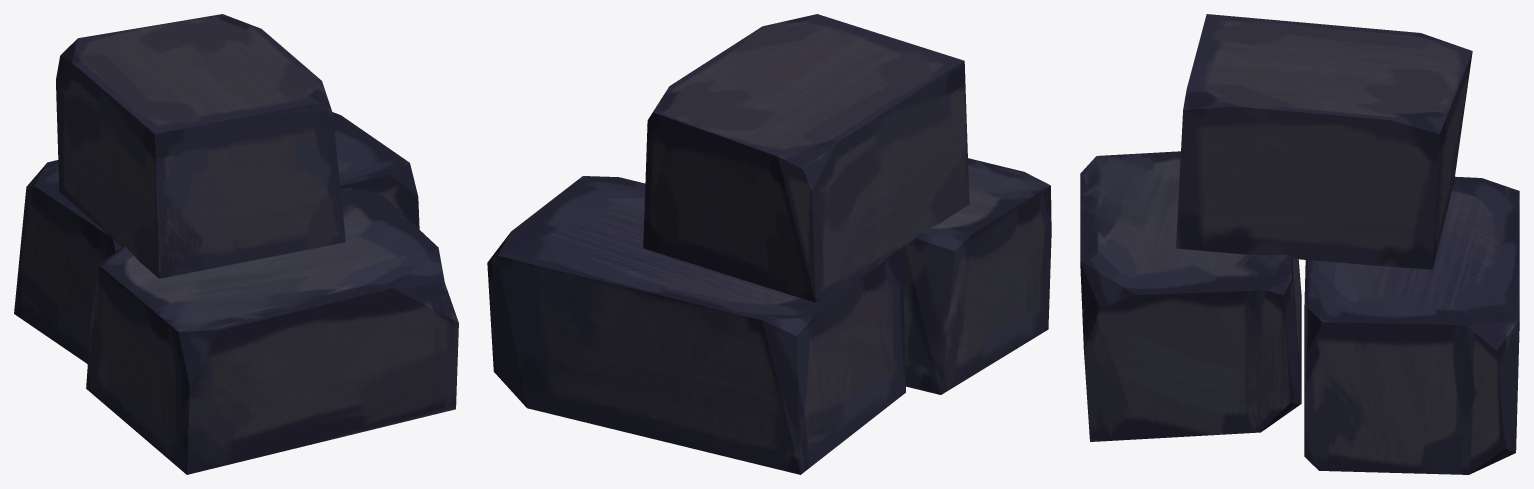
File: Debris05.fbx
The picture shows the model from 3 angles, left to right: view 1: azimuth 30°, elevation 25°; view 2: azimuth 150°, elevation 25°; view 3: azimuth 270°, elevation 25°; orthographic projection. The views are drawn at different scales.
Visible parts, largest first — view 1: Debris05; view 2: Debris05; view 3: Debris05.
Part boxes in pixels (<box>): Debris05: <box>14,14,458,474</box>; Debris05: <box>487,14,1051,474</box>; Debris05: <box>1080,14,1519,474</box>.
Bounding box in the file's own units: 1.08 × 0.873 × 1.14.
1 material, 1 textured.
